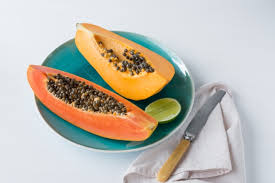papaya: (28, 64, 159, 143), (75, 23, 176, 100)
